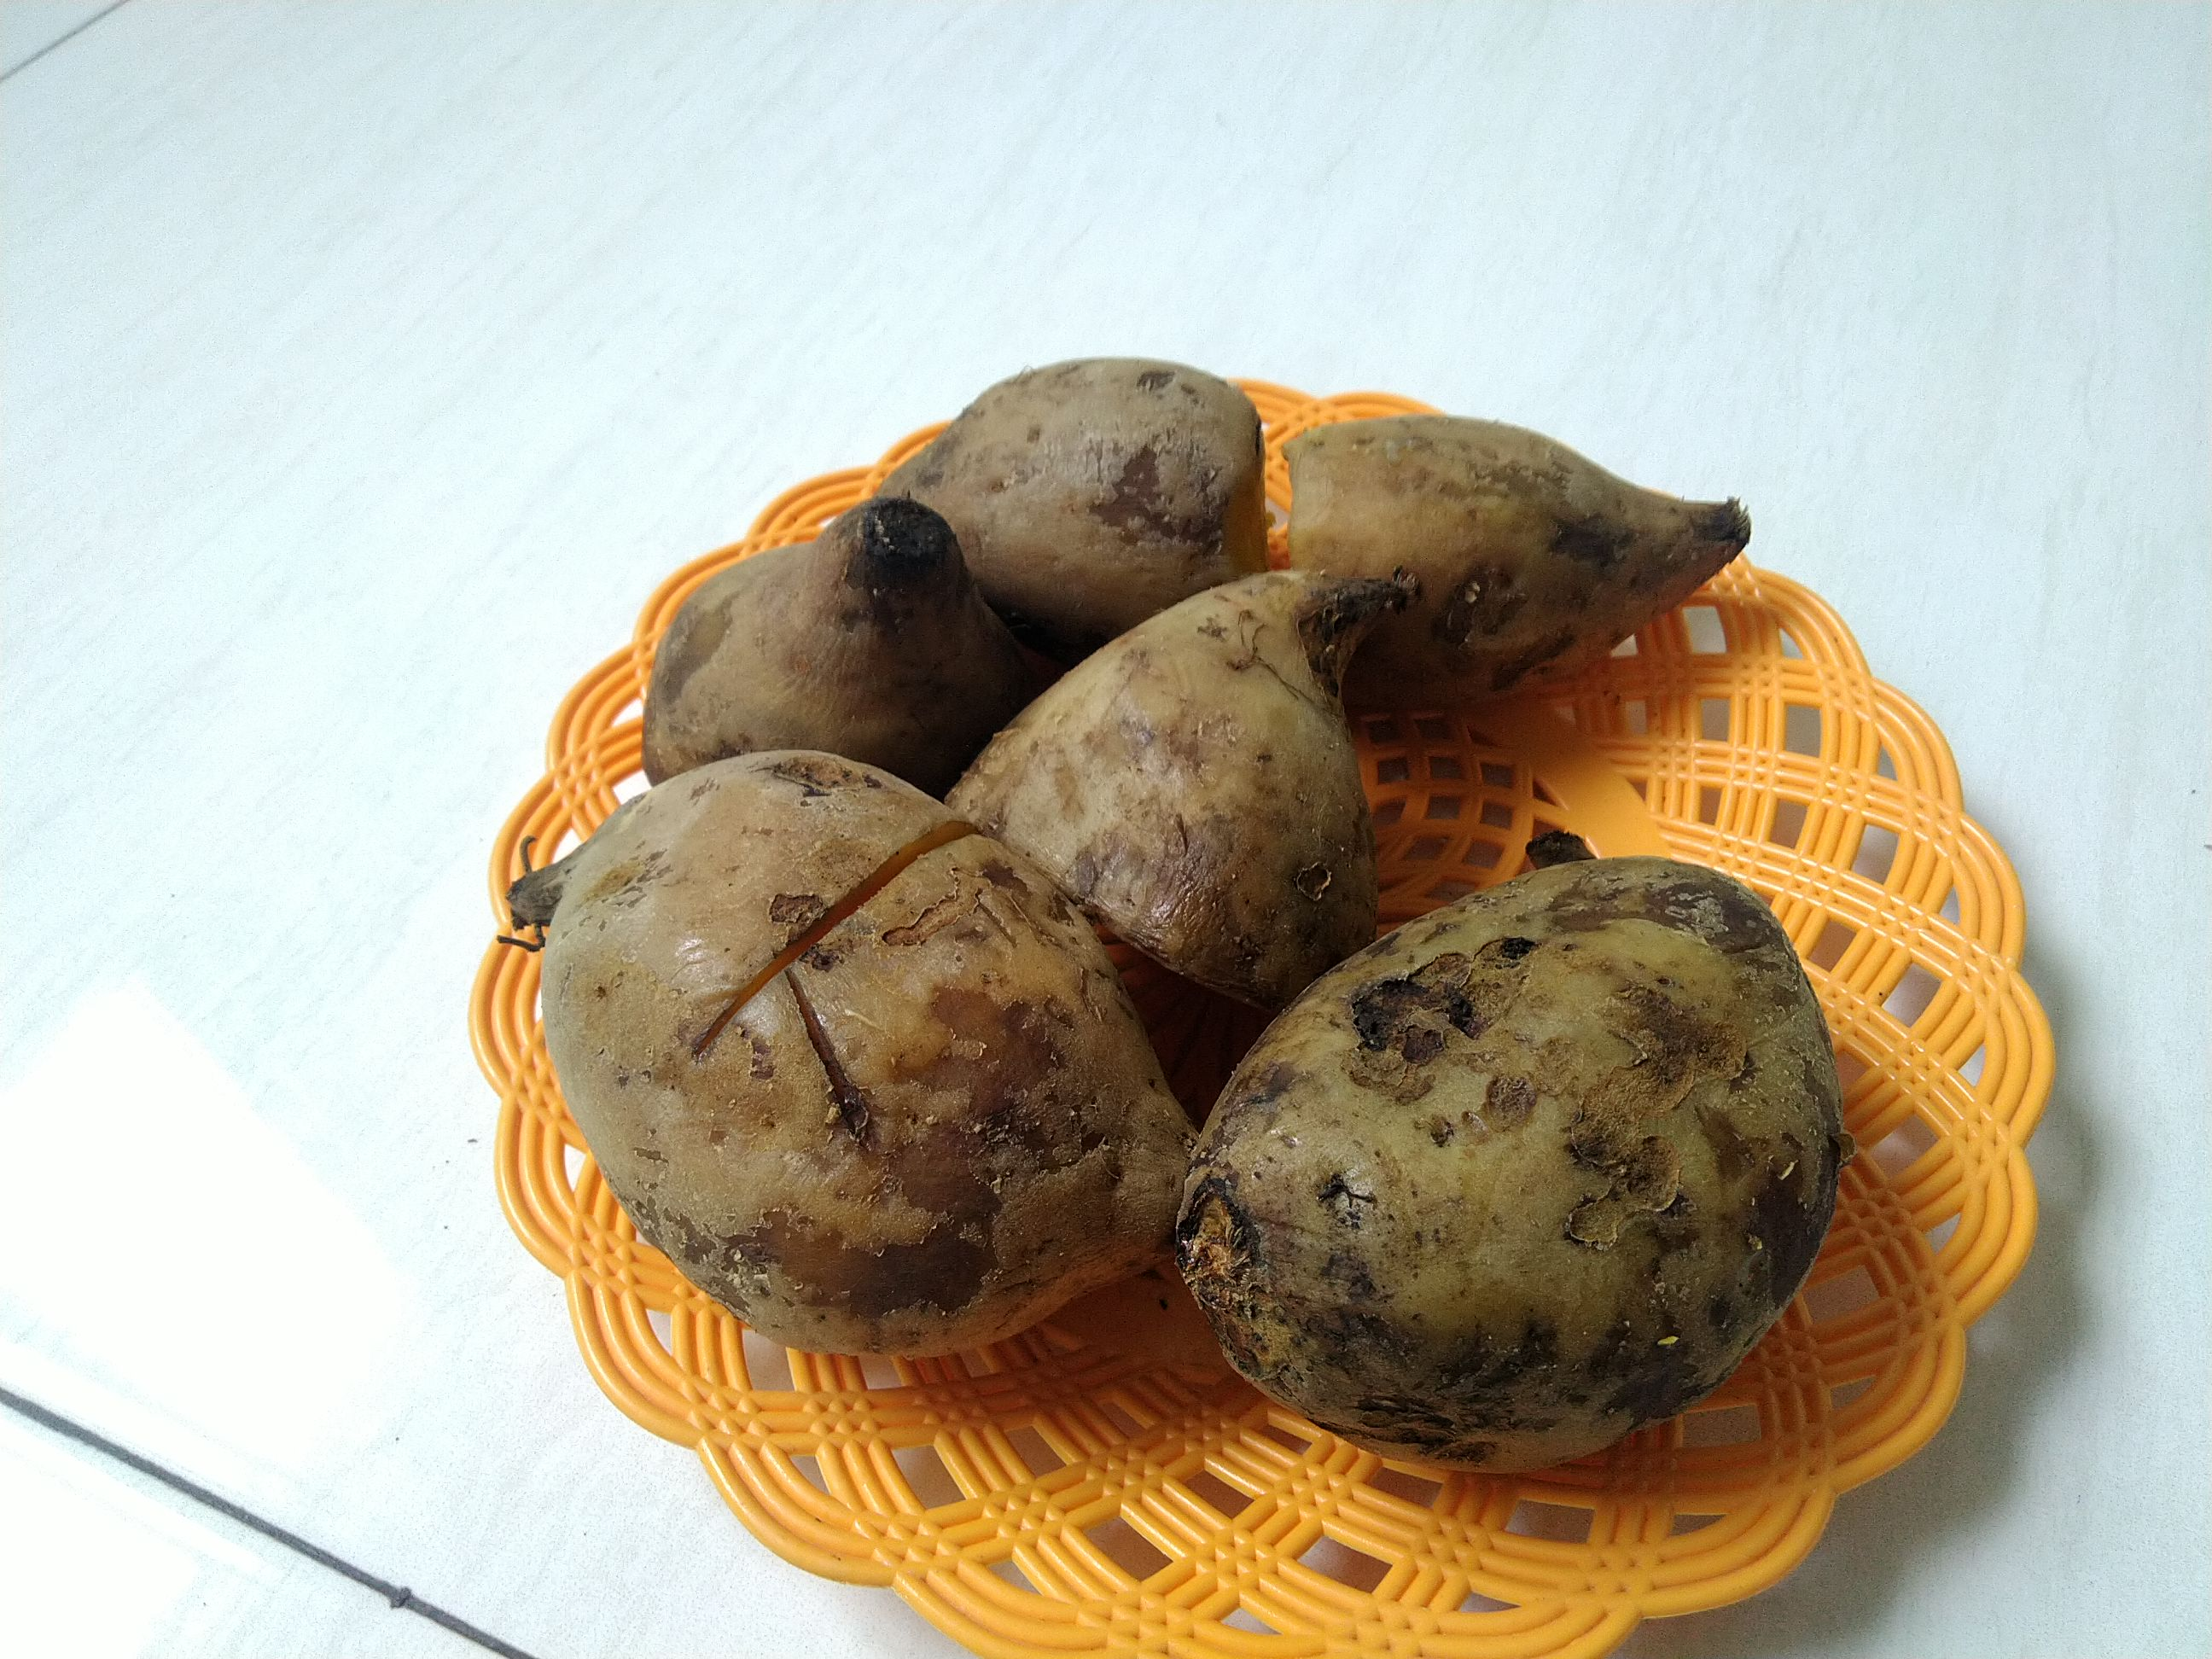ubi kuning: (495, 746, 1219, 1394), (1174, 829, 1844, 1483), (1280, 399, 1822, 737), (627, 484, 1017, 819), (862, 338, 1264, 627)
